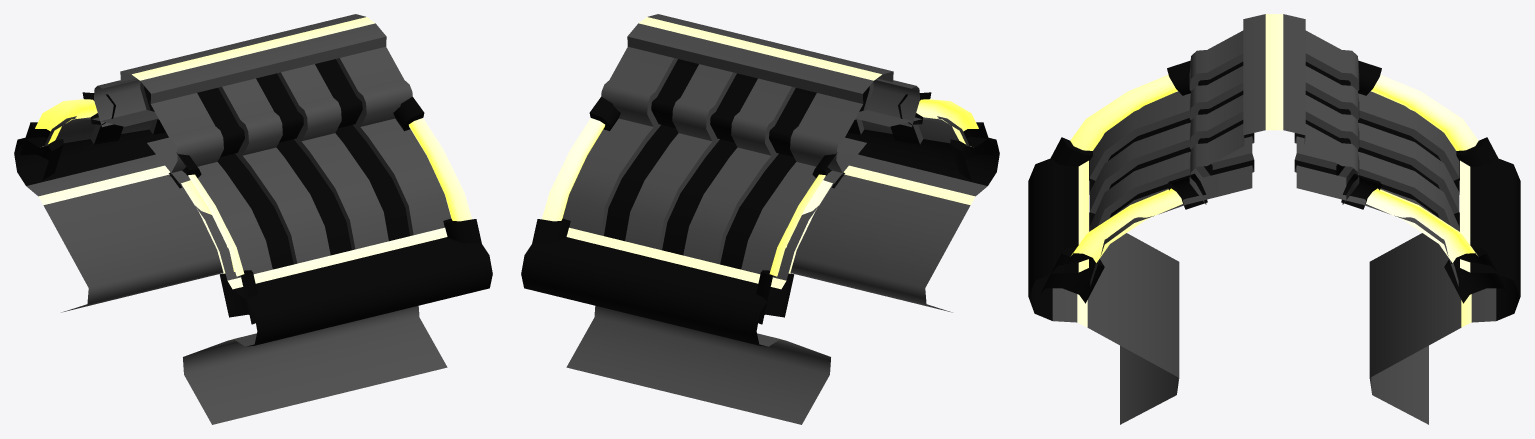
Rendered from mesh_Factory_Trap_MovingWall_Center.fbx.
3 renders of one model, left to right at view 1: azimuth 30°, elevation 25°; view 2: azimuth 150°, elevation 25°; view 3: azimuth 270°, elevation 25°, orthographic.
Visible parts, largest first — view 1: mesh_Factory_Trap_MovingWall_Center; view 2: mesh_Factory_Trap_MovingWall_Center; view 3: mesh_Factory_Trap_MovingWall_Center.
Part boxes in pixels (box(x1,y1,x2,y2)): mesh_Factory_Trap_MovingWall_Center: box(14, 14, 492, 424); mesh_Factory_Trap_MovingWall_Center: box(521, 14, 999, 424); mesh_Factory_Trap_MovingWall_Center: box(1028, 14, 1520, 424).
Size of the model in its own units: 1.65 by 1.95 by 2.96.
